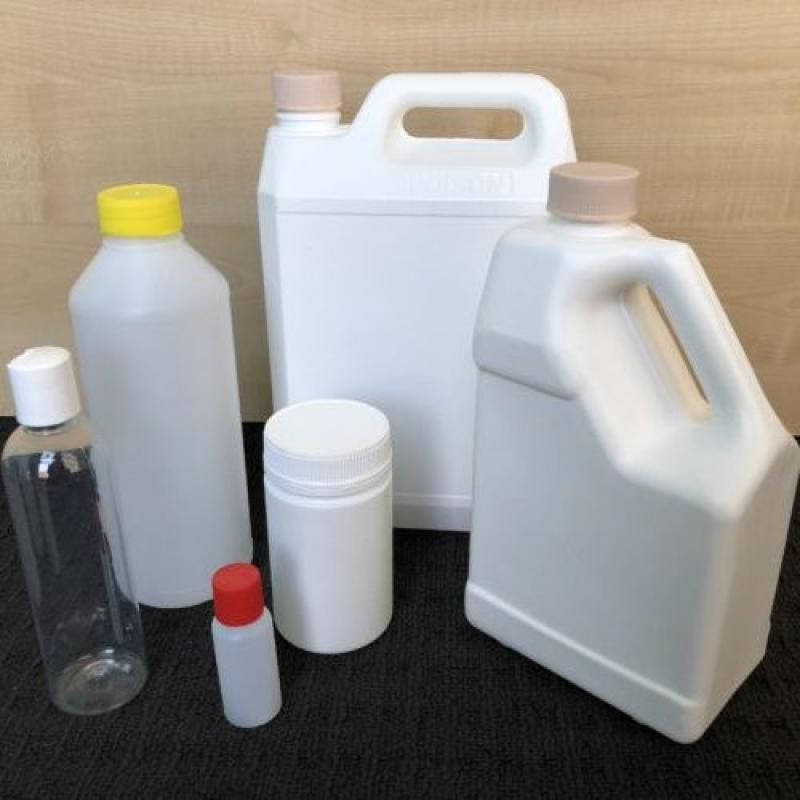botella: (0, 341, 152, 721)
